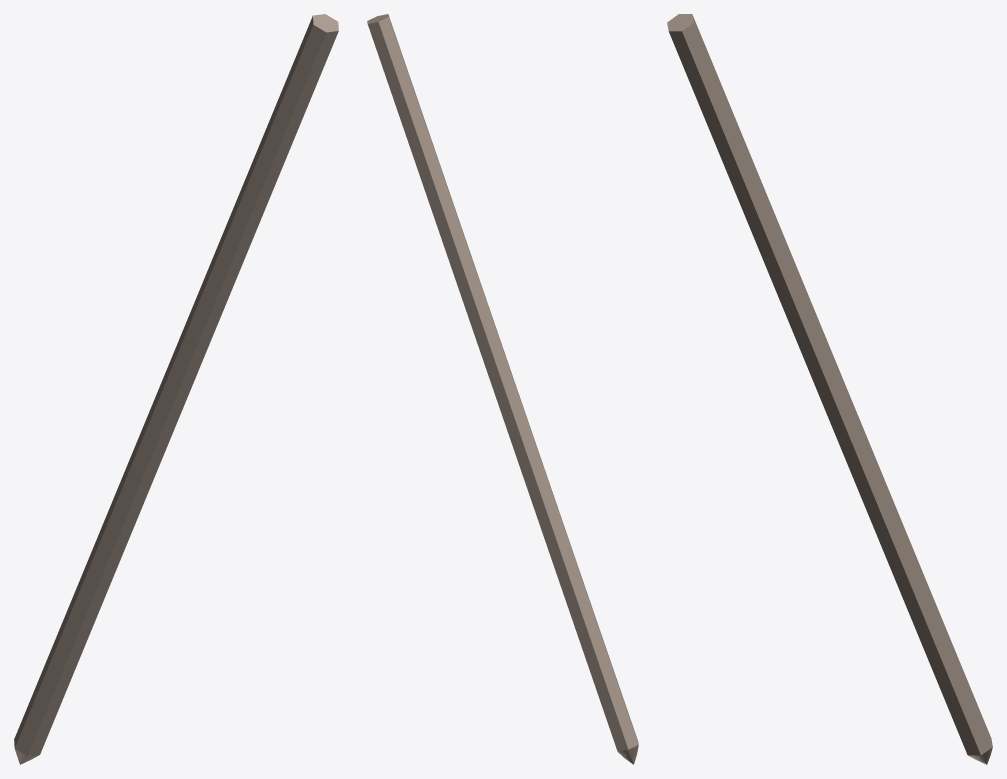
File: left_post.fbx
The picture shows the model from 3 angles, left to right: view 1: azimuth 30°, elevation 25°; view 2: azimuth 210°, elevation 25°; view 3: azimuth 270°, elevation 25°; orthographic projection. The views are drawn at different scales.
Visible parts, largest first — view 1: left_post; view 2: left_post; view 3: left_post.
Part boxes in pixels (x1,y1,x2,y2): left_post: (14,14,338,764); left_post: (367,14,638,764); left_post: (667,14,992,764).
Size of the model in its own units: 13.68 by 61.16 by 21.97.
